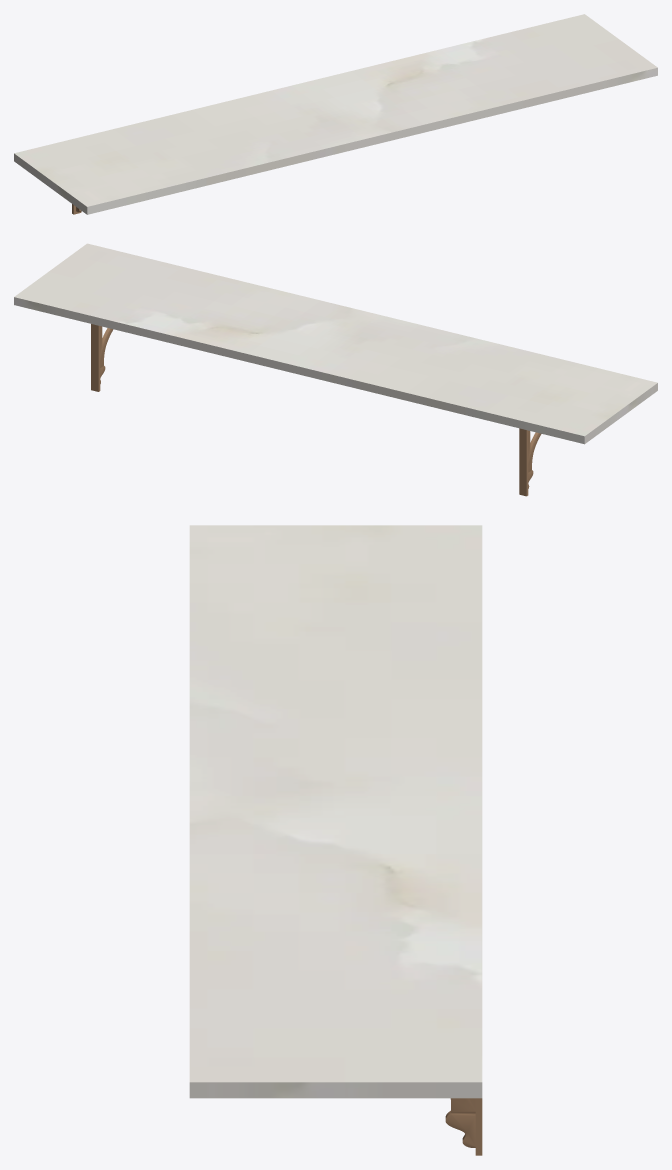
The model's file is FLOATING SHELF 900 MM.glb.
3 views of the same model, one above another, from view 1: azimuth 30°, elevation 25°; view 2: azimuth 150°, elevation 25°; view 3: azimuth 270°, elevation 25° (orthographic). The views are drawn at different scales.
Size of the model in its own units: 0.9 by 0.112 by 0.2.
2 materials, 1 textured.
